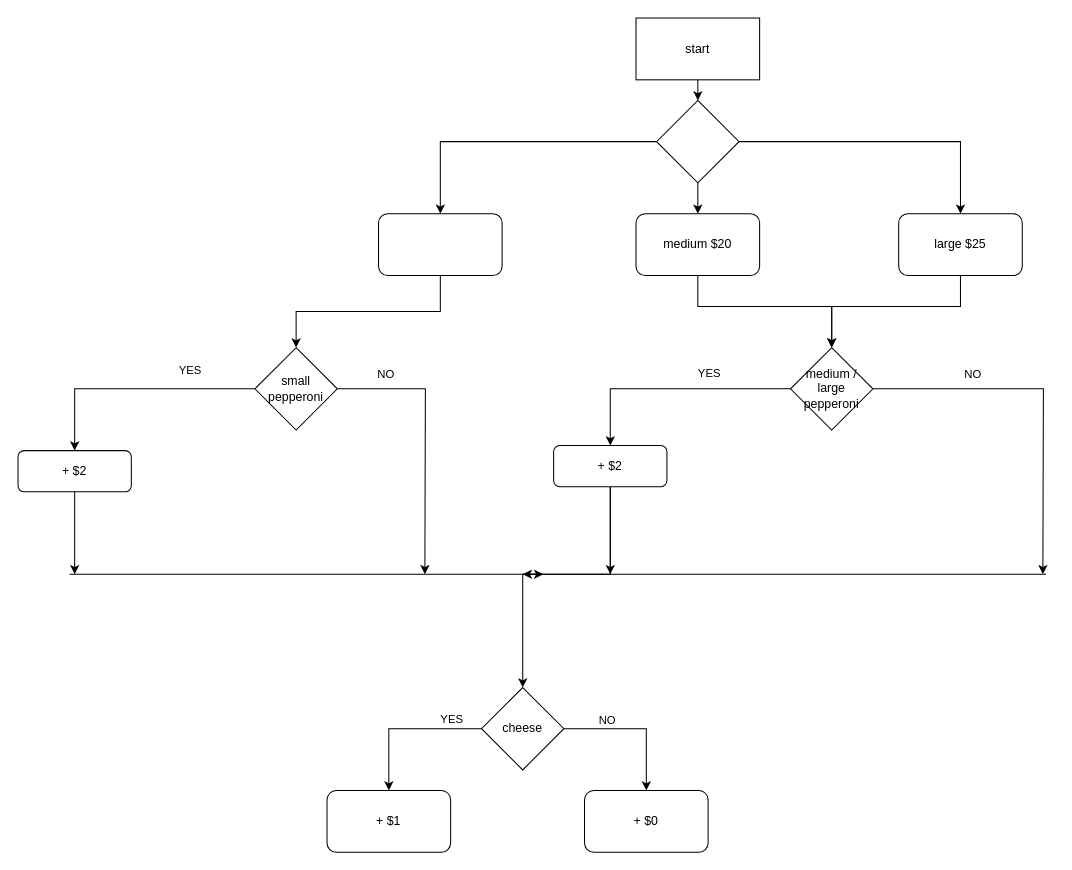
Some shapes in this 1072 by 870 pixel diagram are drawn without their labels. Each missing label, with the centre of its shape:
size: the point at 697,141
small $15: the point at 439,244
